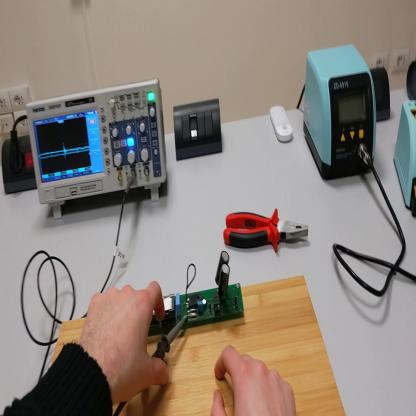hand: (79, 281, 170, 400), (212, 344, 298, 415)
high voltage board: (146, 258, 248, 337)
oscilloscope: (27, 73, 169, 219)
oscilloscope probe tip: (151, 315, 188, 360)
pliers: (220, 212, 309, 253)
socket: (2, 133, 37, 197), (369, 64, 393, 126), (407, 54, 416, 101)
welder station: (306, 37, 377, 179), (394, 106, 415, 213)
working area: (54, 274, 346, 415)
